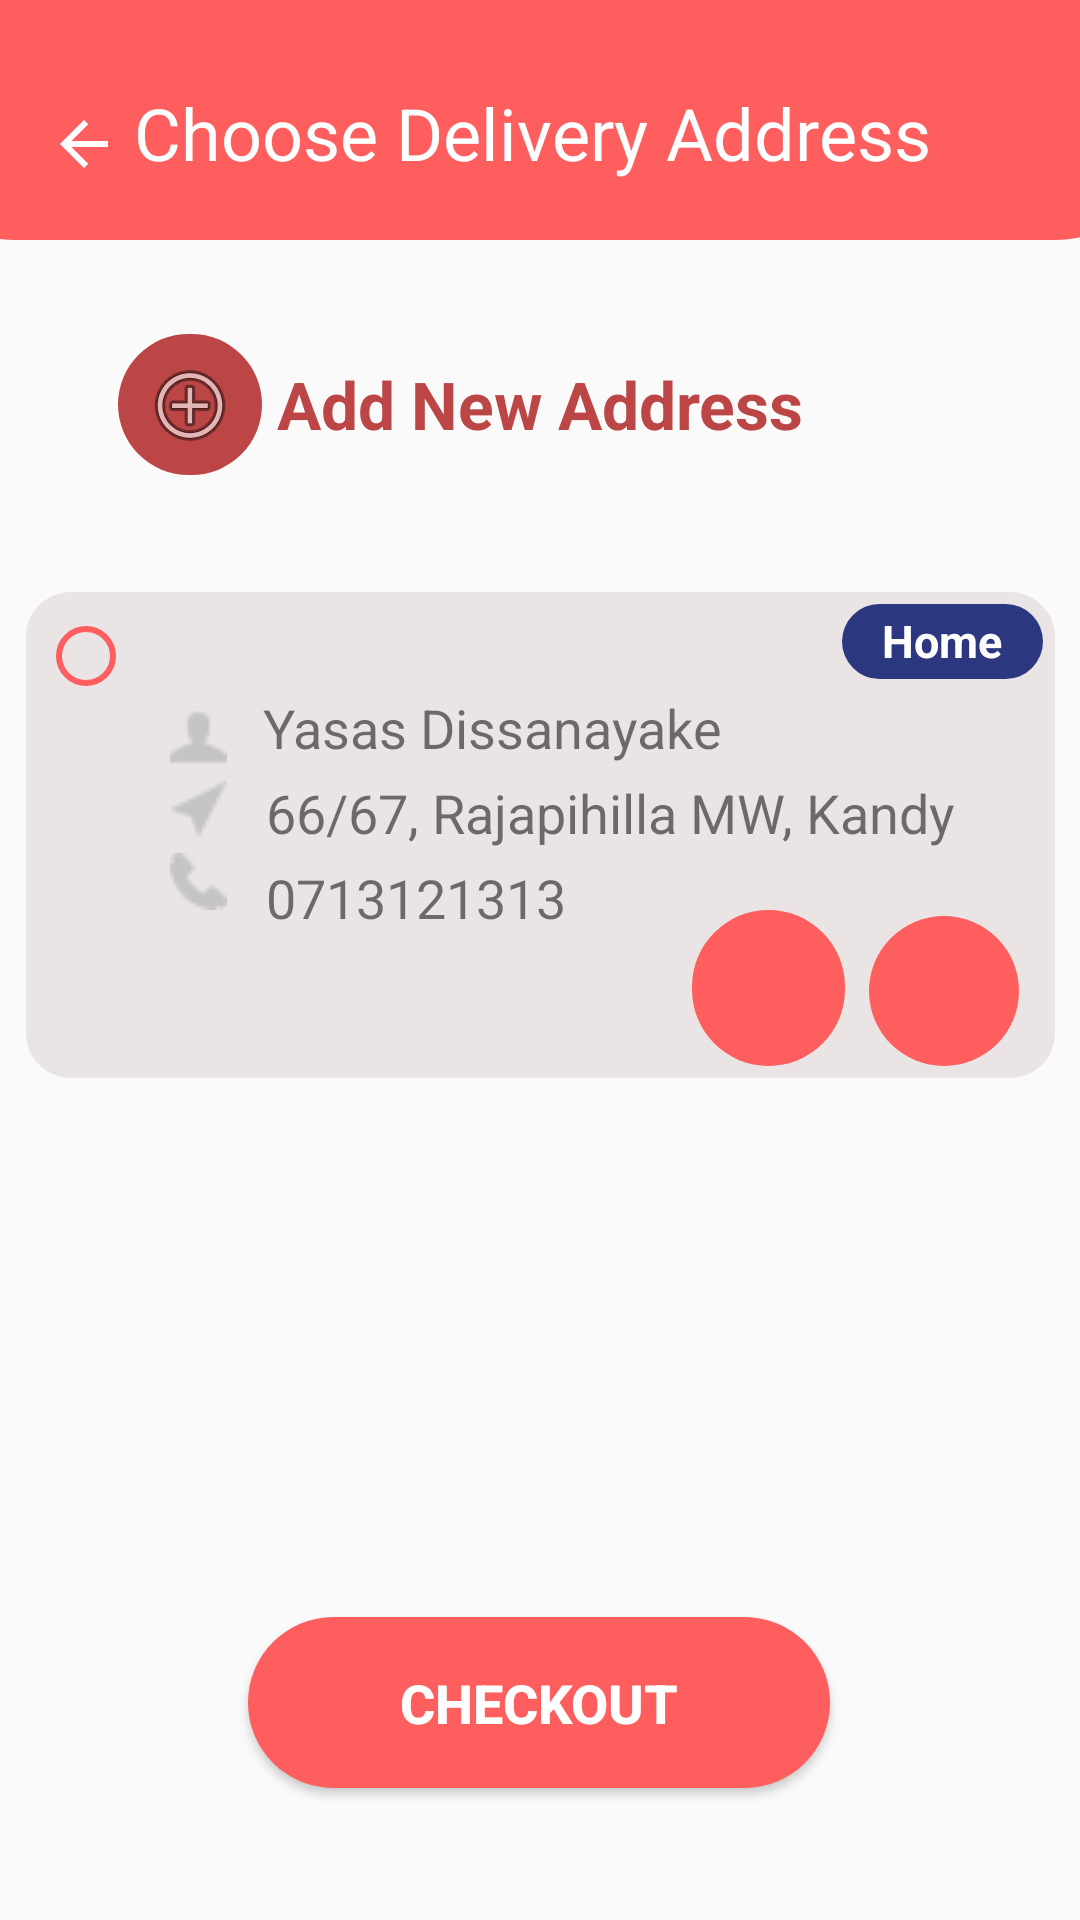

Named icons in this screenshot (1080 x 1920) and their centers, (x,y):
location: (199,809)
phone: (198,881)
user: (198,737)
